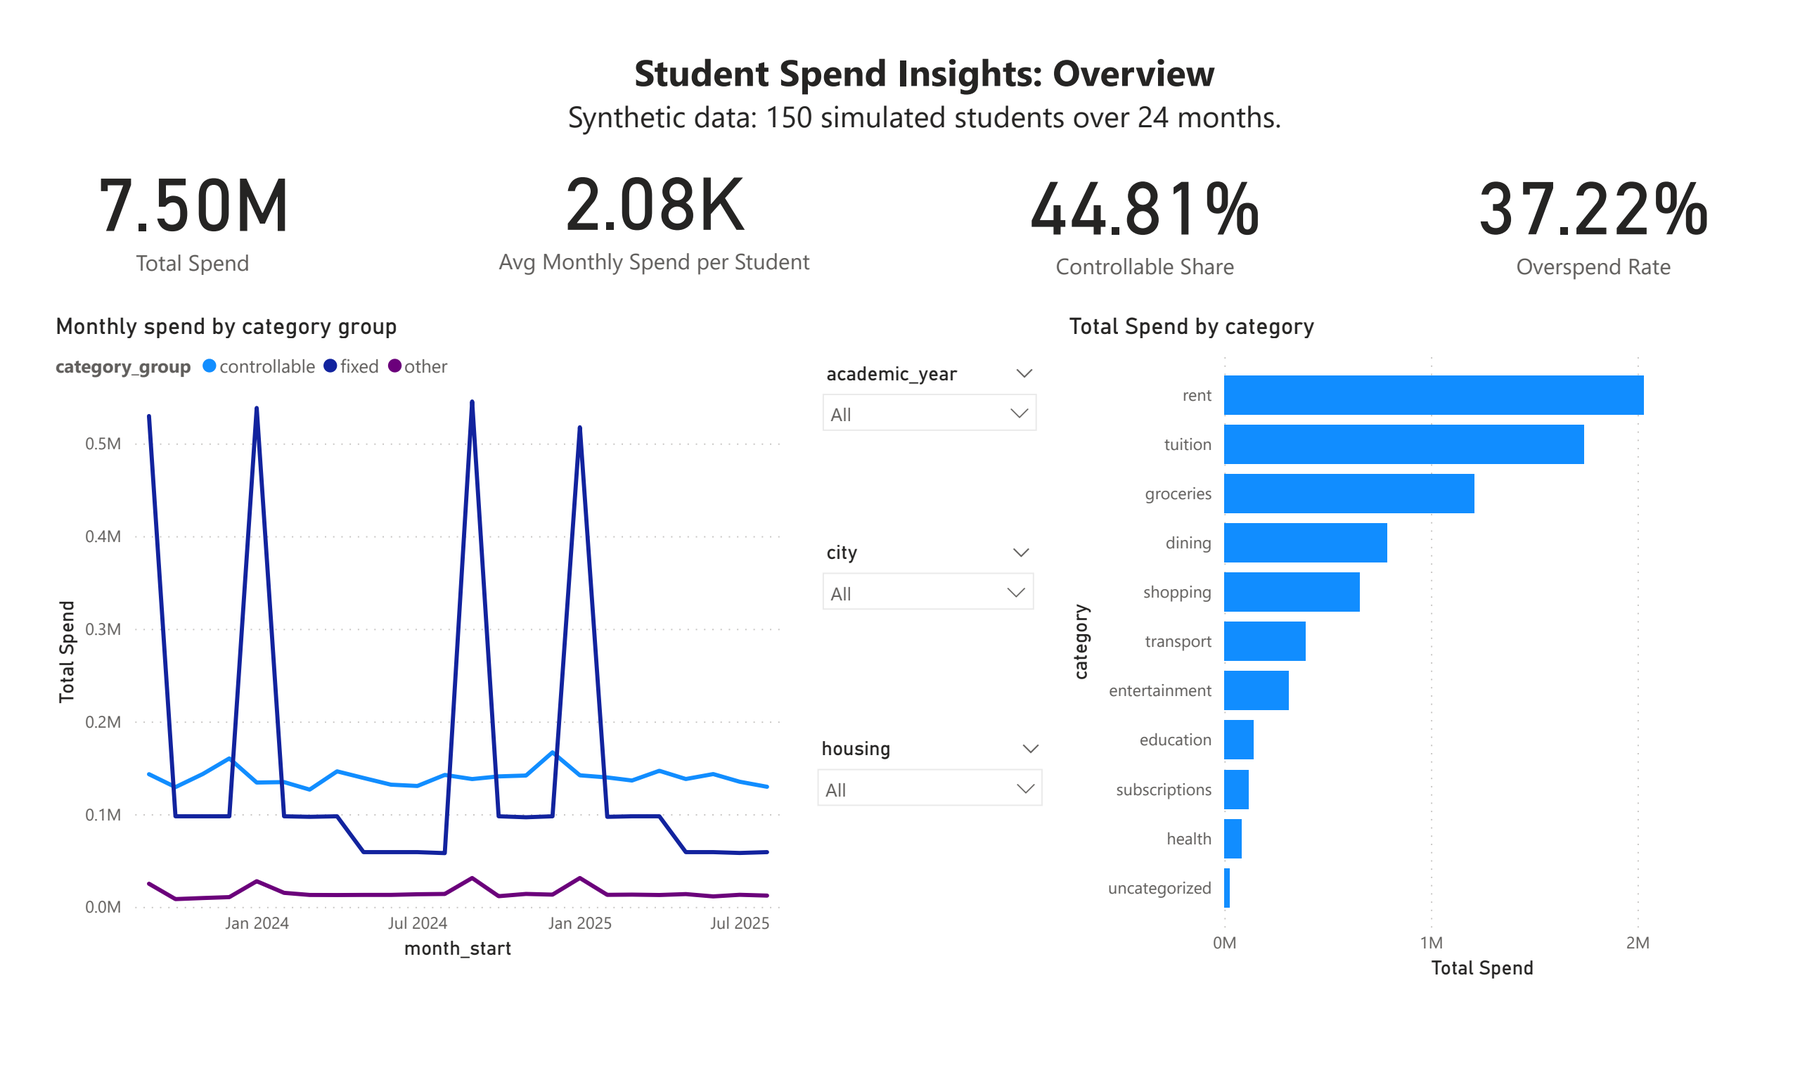

Layout of this report page (visuals, bound fields, positions):
{"tool":"powerbi","page":{"name":"Overview","canvas":[1280,720],"ordinal":0},"visuals":[{"type":"card","fields":{"Values":["_Measures.Total Spend"]},"box":[20.4,71.9,209.7,104.2],"z":0},{"type":"card","fields":{"Values":["_Measures.Avg Monthly Spend per Student"]},"box":[322,65.7,277.7,115.4],"z":1000},{"type":"card","fields":{"Values":["_Measures.Controllable Share"]},"box":[700.4,72.5,237.5,108.7],"z":2000},{"type":"card","fields":{"Values":["_Measures.Overspend Rate"]},"box":[1011.7,67.1,265.7,119.4],"z":3000},{"type":"lineChart","title":"Monthly spend by category group","fields":{"Series":["dim_category.category_group"],"Category":["dim_date.month_start"],"Y":["_Measures.Total Spend"]},"box":[20.4,198.9,549.9,475.6],"z":4000},{"type":"barChart","fields":{"Category":["dim_category.category"],"Y":["_Measures.Total Spend"]},"box":[758.3,198.9,508,490],"z":5000},{"type":"slicer","fields":{"Values":["dim_date.academic_year"]},"box":[573.8,230,176.1,98.2],"z":6000},{"type":"slicer","fields":{"Values":["dim_student.housing"]},"box":[570.2,503.2,184.5,75.5],"z":7000},{"type":"slicer","fields":{"Values":["dim_student.city"]},"box":[573.8,360.6,173.7,83.9],"z":8000},{"type":"textbox","box":[379.5,0,557.9,75.1],"z":9000}]}

Visuals, with their boxes on the page's 1280x720 design canvas (x1, y1, x2, y2). These are canvas units, not pixel positions in the 1800x1068 screenshot, which may show the page scaled, cropped or inside an application window:
card - _Measures.Total Spend: (20, 72, 230, 176)
card - _Measures.Avg Monthly Spend per Student: (322, 66, 600, 181)
card - _Measures.Controllable Share: (700, 72, 938, 181)
card - _Measures.Overspend Rate: (1012, 67, 1277, 186)
"Monthly spend by category group" lineChart: (20, 199, 570, 674)
barChart - dim_category.category x _Measures.Total Spend: (758, 199, 1266, 689)
slicer - dim_date.academic_year: (574, 230, 750, 328)
slicer - dim_student.housing: (570, 503, 755, 579)
slicer - dim_student.city: (574, 361, 748, 444)
textbox: (380, 0, 937, 75)
